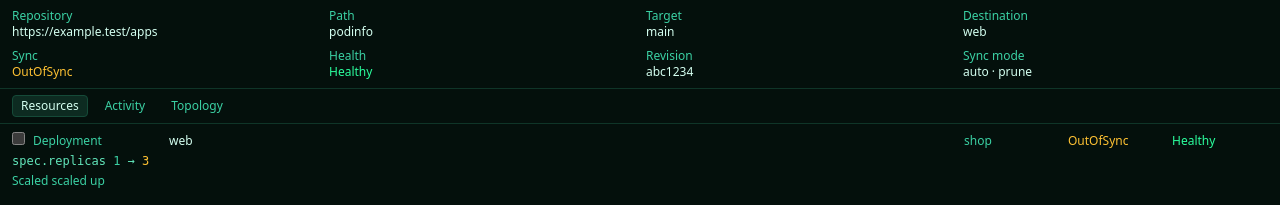
Test: the per-application panel › stops the writes while the application is being deleted
The width and height of the screenshot is (1280, 205).
Click the checkbox named "Mark Deployment web": (18, 138) [12, 132, 25, 145]
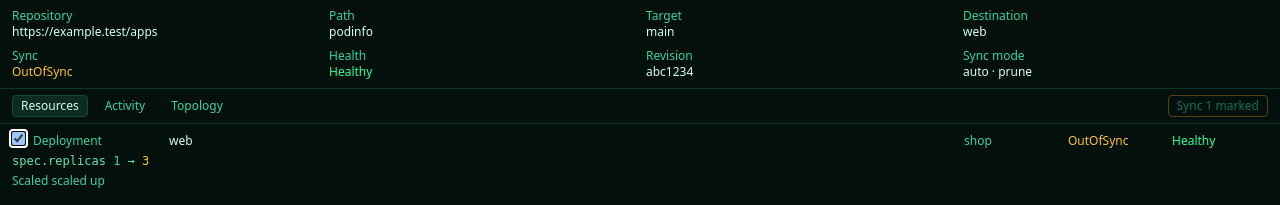
Now the button "Sync 1 marked" is disabled, box [1168, 95, 1268, 117]
Click the button "Activity": (125, 106) [96, 95, 154, 117]
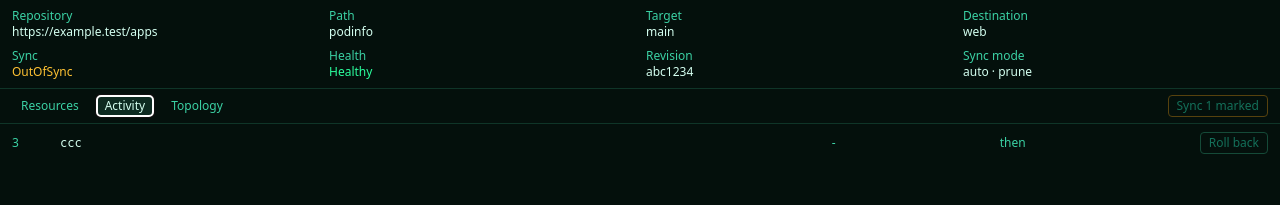
Now the button "Roll back" is disabled, box [1200, 132, 1268, 154]
